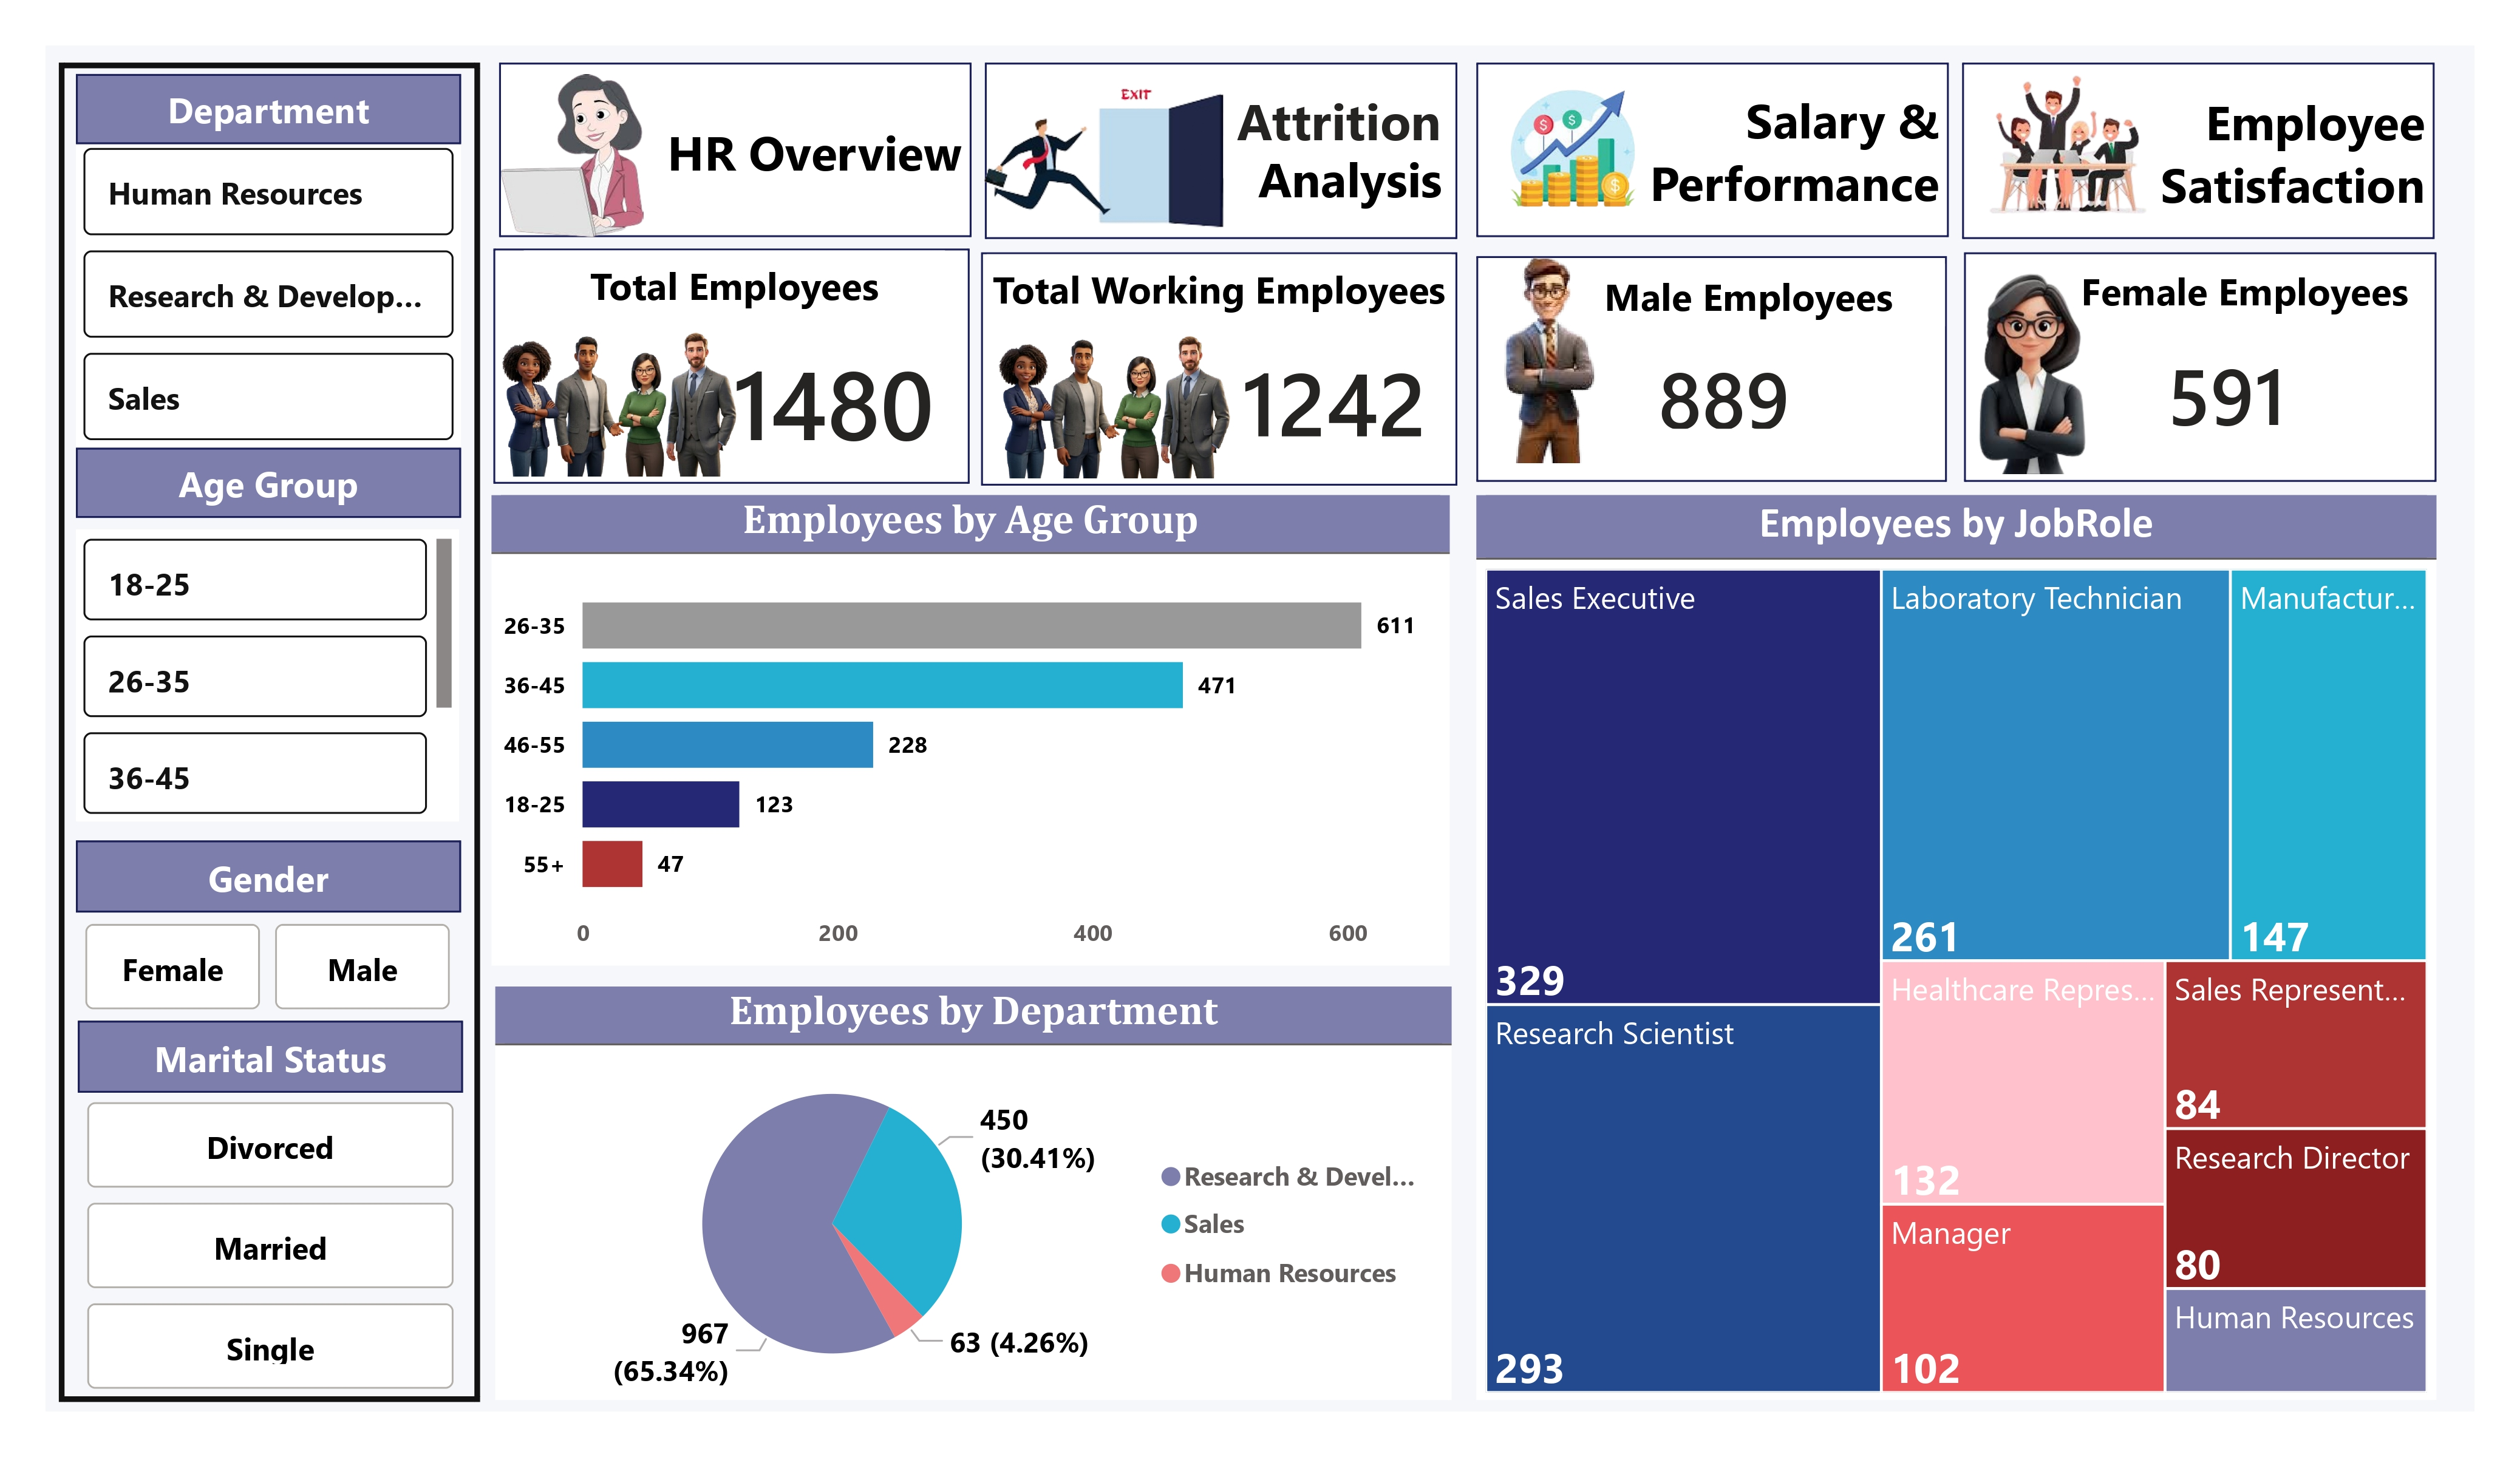

The dashboard page shown, as its layout file describes it:
{"tool":"powerbi","page":{"name":"HR Overview","canvas":[1280,720],"ordinal":0},"visuals":[{"type":"shape","box":[7.2,8.6,221.8,705.6],"z":0,"group":"g9"},{"type":"shape","box":[235.8,107.4,251,123.8],"z":0,"group":"g4"},{"type":"barChart","title":"Employees by Age Group","fields":{"Y":["Sum(HR_Analytics.EmployeeCount)"],"Category":["HR_Analytics.AgeGroup"]},"box":[235.3,236.7,504.6,248],"z":0},{"type":"shape","box":[239,8.6,249.1,92.2],"z":1000,"group":"g8"},{"type":"shape","box":[1010.5,108.9,249.4,121],"z":1000,"group":"g6"},{"type":"shape","box":[493.2,109.1,250.9,123.3],"z":1000,"group":"g5"},{"type":"pieChart","title":"Employees by Department","fields":{"Category":["HR_Analytics.Department"],"Y":["Sum(HR_Analytics.EmployeeCount)"]},"box":[236.7,496.1,504.6,218.3],"z":1000},{"type":"shape","box":[753.4,9.5,249.1,92.2],"z":2000,"group":"g3"},{"type":"cardVisual","title":"Total Employees","fields":{"Data":["Sum(HR_Analytics.EmployeeCount)"]},"box":[342.4,144.8,142.6,82.1],"z":2000,"group":"g4"},{"type":"cardVisual","title":"Total Employees","fields":{"Data":["HR_Analytics.Total_Females"]},"box":[1105.5,147.4,102,66],"z":2000,"group":"g6"},{"type":"treemap","title":" Employees by JobRole","fields":{"Values":["Sum(HR_Analytics.EmployeeCount)"],"Group":["HR_Analytics.JobRole"]},"box":[754,236.7,506,477.6],"z":2000},{"type":"group","id":"g1","title":"Group 4","box":[476.2,2.8,286.3,112],"z":3000},{"type":"shape","box":[1009.4,8.8,249.1,93.6],"z":3000,"group":"g2"},{"type":"shape","box":[1067.2,111.6,182.8,33],"z":3000,"group":"g6"},{"type":"cardVisual","title":"Total Employees","fields":{"Data":["HR_Analytics.Working_Employees"]},"box":[586.7,153,153.1,65.2],"z":3000,"group":"g5"},{"type":"group","id":"g2","title":"Group 6","box":[1000.8,5.9,256.7,95.8],"z":4000},{"type":"shape","box":[494.9,8.6,249.1,93.6],"z":4000,"group":"g1"},{"type":"image","box":[990.7,100.6,110.6,138.9],"z":4000,"group":"g6"},{"type":"group","id":"g3","title":"Group 7","box":[727.5,9.5,274.5,92.3],"z":5000},{"type":"image","box":[460.8,137.8,198.7,90.7],"z":5000,"group":"g5"},{"type":"group","id":"g4","title":"Group 1","box":[199.8,107.4,287,123.8],"z":6000},{"type":"group","id":"g5","title":"Group 2","box":[460.8,109.1,283.3,123.3],"z":7000},{"type":"shape","box":[496,110.5,245.2,34],"z":7000,"group":"g5"},{"type":"advancedSlicerVisual","fields":{"Values":["HR_Analytics.Department"]},"box":[15.8,48.9,203,162.7],"z":8000,"group":"g9"},{"type":"group","id":"g6","title":"Group 5","box":[990.7,100.6,269.3,138.9],"z":8000},{"type":"shape","box":[15.8,14.4,203,37],"z":9000,"group":"g9"},{"type":"group","id":"g7","title":"Group 3","box":[739.8,100.6,262.2,129],"z":9000},{"type":"group","id":"g8","title":"Group 8","box":[208.8,8.6,279.4,92.2],"z":10000},{"type":"advancedSlicerVisual","fields":{"Values":["HR_Analytics.AgeGroup"]},"box":[15.7,254.2,202.9,154.3],"z":10000,"group":"g9"},{"type":"group","id":"g9","title":"Group 9","box":[7.2,8.6,221.8,705.6],"z":11000},{"type":"shape","box":[754,110.2,248,119.4],"z":11000,"group":"g7"},{"type":"shape","box":[15.8,211.6,203,37.4],"z":11000,"group":"g9"},{"type":"advancedSlicerVisual","fields":{"Values":["HR_Analytics.Gender"]},"box":[15.8,457.9,203,54.7],"z":12000,"group":"g9"},{"type":"image","box":[199.8,136.2,198.7,90.7],"z":13000,"group":"g4"},{"type":"shape","box":[15.8,419,203,37.4],"z":13000,"group":"g9"},{"type":"shape","box":[251.6,108.8,221.8,34.6],"z":14000,"group":"g4"},{"type":"advancedSlicerVisual","fields":{"Values":["HR_Analytics.MaritalStatus"]},"box":[17.1,551.4,202.9,162.9],"z":14000,"group":"g9"},{"type":"cardVisual","title":"Total Employees","fields":{"Data":["HR_Analytics.Total_males"]},"box":[837.6,152.7,133.2,60.4],"z":15000,"group":"g7"},{"type":"shape","box":[17.3,514,203,37.4],"z":15000,"group":"g9"},{"type":"shape","box":[793.7,114.3,206.9,32.9],"z":16000,"group":"g7"},{"type":"image","box":[208.8,14.4,136.8,86.4],"z":17000,"group":"g8"},{"type":"image","box":[739.8,100.6,108.3,119.1],"z":18000,"group":"g7"},{"type":"image","box":[727.5,13.8,154.1,83.5],"z":22000,"group":"g3"},{"type":"image","box":[1000.8,5.9,129.6,92.2],"z":23000,"group":"g2"},{"type":"image","box":[476.2,2.8,164.2,112.3],"z":24000,"group":"g1"},{"type":"textbox","box":[623.1,15.8,139.7,57.6],"z":25000,"group":"g1"}]}

Visuals, with their boxes on the page's 1280x720 design canvas (x1, y1, x2, y2). These are canvas units, not pixel positions in the 2520x1457 screenshot, which may show the page scaled, cropped or inside an application window:
shape: box=[7, 9, 229, 714]
shape: box=[236, 107, 487, 231]
"Employees by Age Group" barChart: box=[235, 237, 740, 485]
shape: box=[239, 9, 488, 101]
shape: box=[1010, 109, 1260, 230]
shape: box=[493, 109, 744, 232]
"Employees by Department" pieChart: box=[237, 496, 741, 714]
shape: box=[753, 10, 1002, 102]
"Total Employees" cardVisual: box=[342, 145, 485, 227]
"Total Employees" cardVisual: box=[1106, 147, 1208, 213]
" Employees by JobRole" treemap: box=[754, 237, 1260, 714]
"Group 4" group: box=[476, 3, 762, 115]
shape: box=[1009, 9, 1258, 102]
shape: box=[1067, 112, 1250, 145]
"Total Employees" cardVisual: box=[587, 153, 740, 218]
"Group 6" group: box=[1001, 6, 1258, 102]
shape: box=[495, 9, 744, 102]
image: box=[991, 101, 1101, 240]
"Group 7" group: box=[728, 10, 1002, 102]
image: box=[461, 138, 660, 228]
"Group 1" group: box=[200, 107, 487, 231]
"Group 2" group: box=[461, 109, 744, 232]
shape: box=[496, 110, 741, 144]
advancedSlicerVisual - HR_Analytics.Department: box=[16, 49, 219, 212]
"Group 5" group: box=[991, 101, 1260, 240]
shape: box=[16, 14, 219, 51]
"Group 3" group: box=[740, 101, 1002, 230]
"Group 8" group: box=[209, 9, 488, 101]
advancedSlicerVisual - HR_Analytics.AgeGroup: box=[16, 254, 219, 408]
"Group 9" group: box=[7, 9, 229, 714]
shape: box=[754, 110, 1002, 230]
shape: box=[16, 212, 219, 249]
advancedSlicerVisual - HR_Analytics.Gender: box=[16, 458, 219, 513]
image: box=[200, 136, 398, 227]
shape: box=[16, 419, 219, 456]
shape: box=[252, 109, 473, 143]
advancedSlicerVisual - HR_Analytics.MaritalStatus: box=[17, 551, 220, 714]
"Total Employees" cardVisual: box=[838, 153, 971, 213]
shape: box=[17, 514, 220, 551]
shape: box=[794, 114, 1001, 147]
image: box=[209, 14, 346, 101]
image: box=[740, 101, 848, 220]
image: box=[728, 14, 882, 97]
image: box=[1001, 6, 1130, 98]
image: box=[476, 3, 640, 115]
textbox: box=[623, 16, 763, 73]
